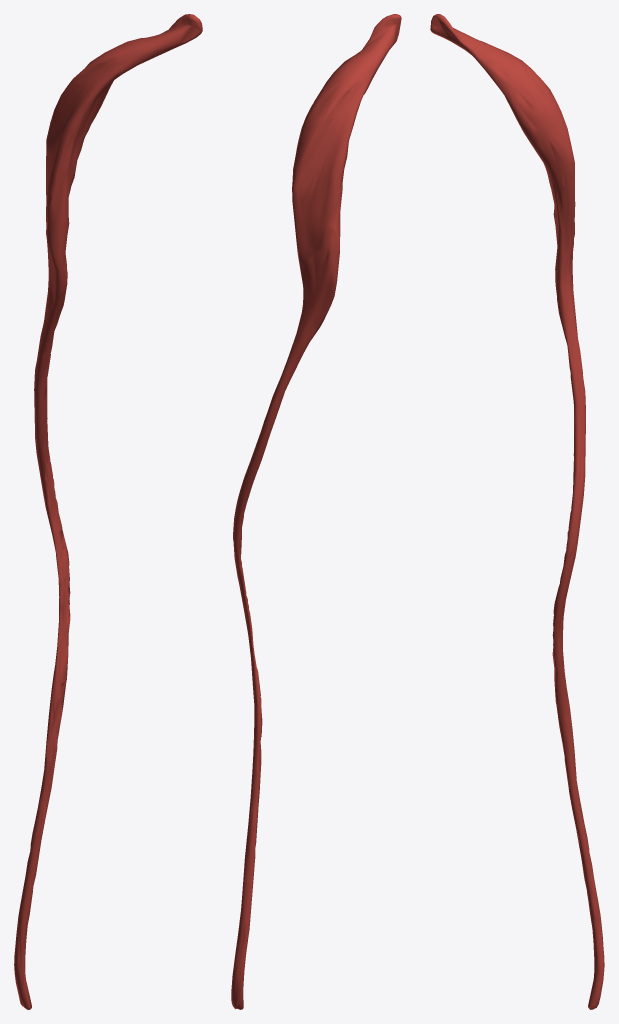
Rendered from musculos-plantaris-muscle-r.glb.
3 views of the same model, side by side, from view 1: azimuth 90°, elevation 25°; view 2: azimuth 150°, elevation 25°; view 3: azimuth 270°, elevation 25° (orthographic). The views are drawn at different scales.
Parts seen in each view (by area): view 1: Plantaris muscle.r; view 2: Plantaris muscle.r; view 3: Plantaris muscle.r.
Boxes of the visible parts, x1,y1,x2,y2 form: Plantaris muscle.r: (14,14,202,1009); Plantaris muscle.r: (231,14,401,1009); Plantaris muscle.r: (430,14,604,1009).
Size of the model in its own units: 0.0549 by 0.4823 by 0.0797.
